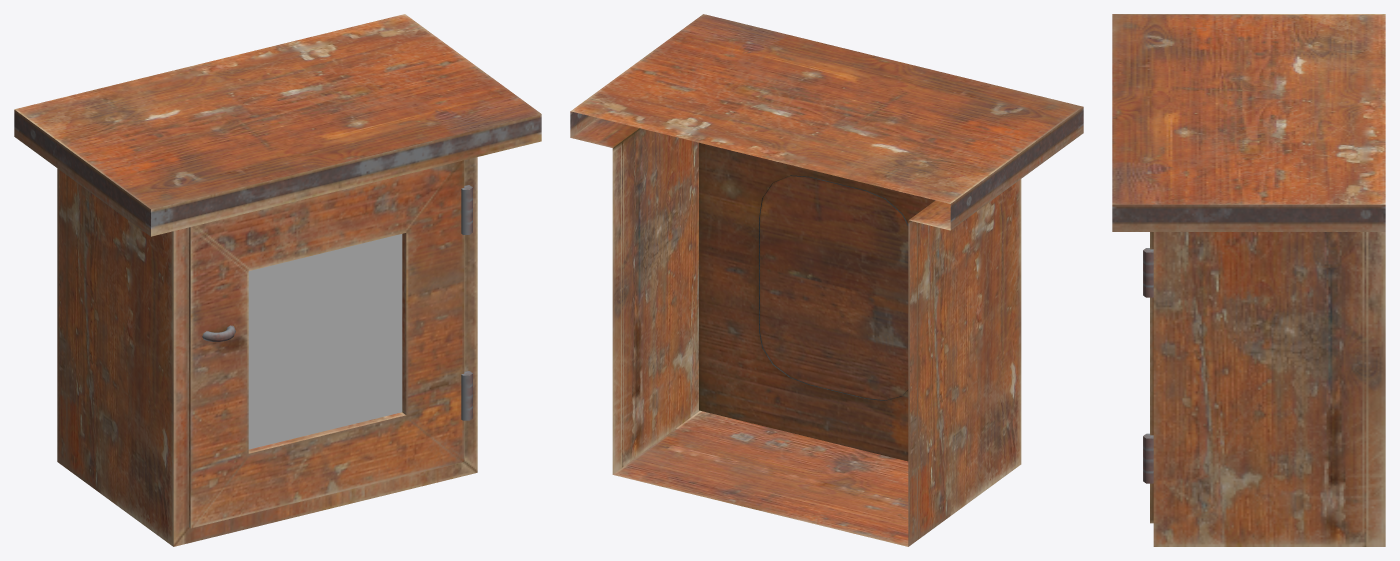
The model's file is Electric_Meter.FBX.
3 views of the same model, side by side, from view 1: azimuth 30°, elevation 25°; view 2: azimuth 150°, elevation 25°; view 3: azimuth 270°, elevation 25° (orthographic). The views are drawn at different scales.
Visible parts, largest first — view 1: Electric_Meter, EM_Door; view 2: Electric_Meter; view 3: Electric_Meter, EM_Door.
Part boxes in pixels (<box>): Electric_Meter: <box>14,14,541,546</box>; EM_Door: <box>189,160,464,528</box>; Electric_Meter: <box>570,14,1083,546</box>; Electric_Meter: <box>1112,14,1385,546</box>; EM_Door: <box>1150,232,1153,523</box>.
Bounding box in the file's own units: 53.95 × 32.69 × 47.91.
